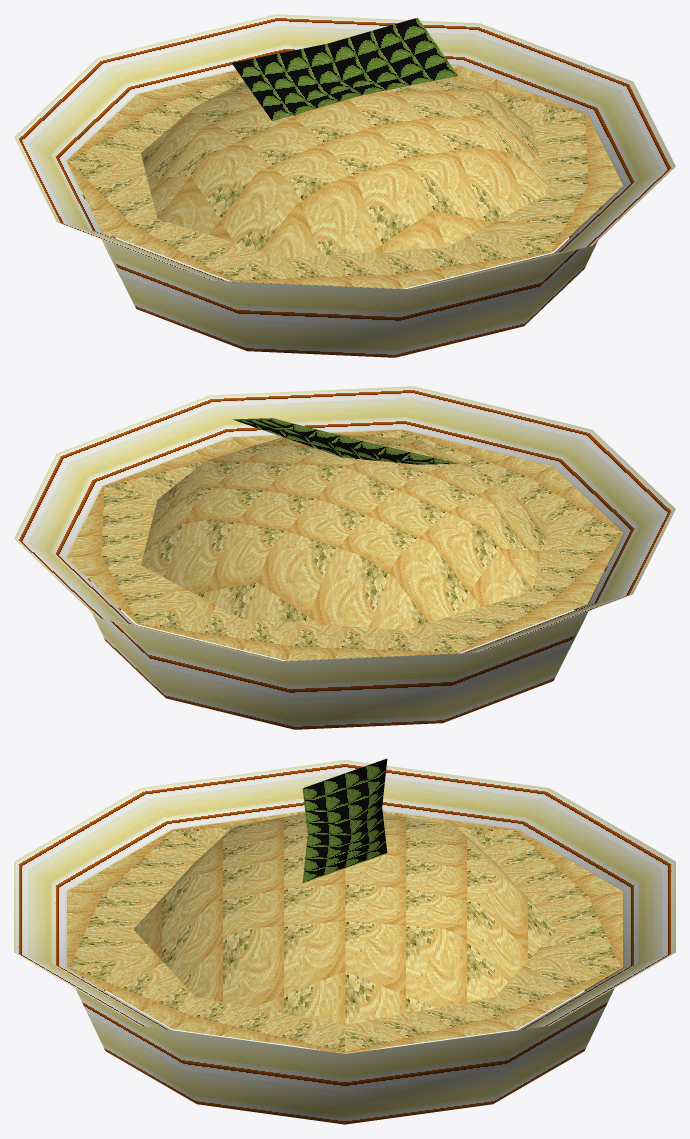
File: spps_w.gltf
The picture shows the model from 3 angles, top to bottom: view 1: azimuth 30°, elevation 25°; view 2: azimuth 150°, elevation 25°; view 3: azimuth 270°, elevation 25°; orthographic projection. The views are drawn at different scales.
Parts seen in each view (by area): view 1: spps_w; view 2: spps_w; view 3: spps_w.
Part boxes in pixels (<box>): spps_w: <box>14,14,675,357</box>; spps_w: <box>14,386,675,729</box>; spps_w: <box>14,758,675,1124</box>.
Bounding box in the file's own units: 0.8091 × 0.2722 × 0.7695.
3 materials, 3 textured.
